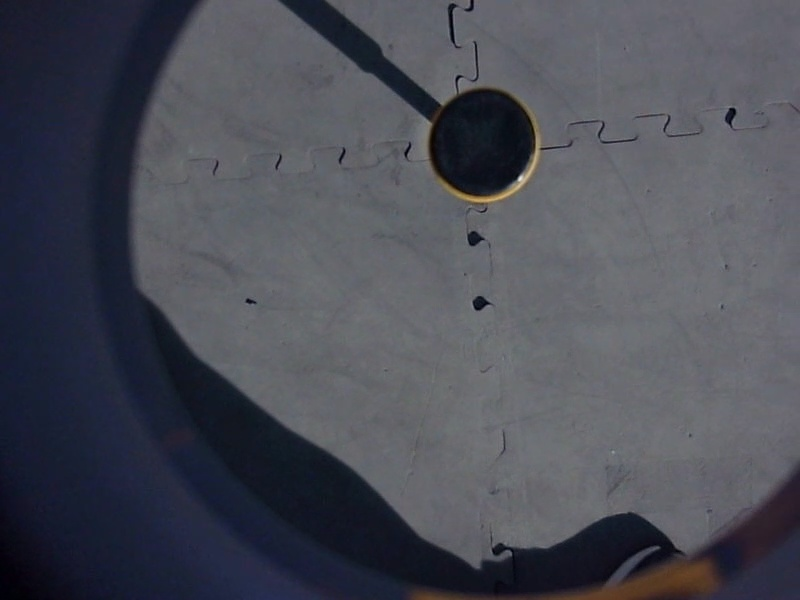tip: (421, 83, 547, 207)
